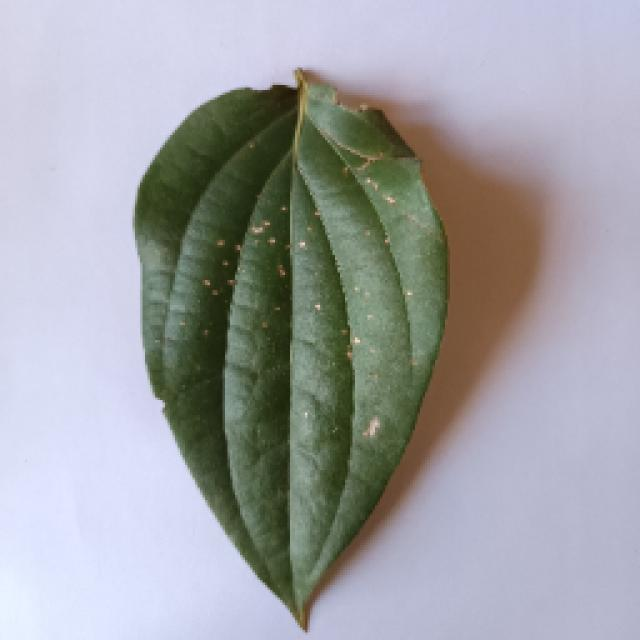pollu-disease: (127, 73, 445, 625)
